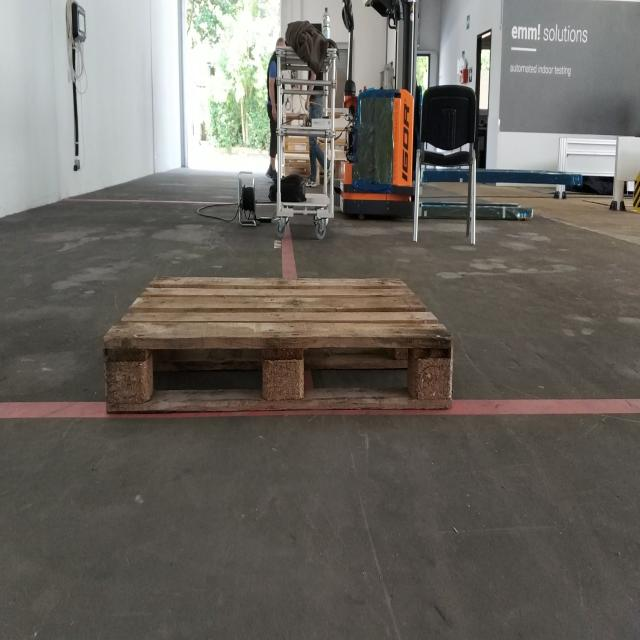block: (260, 325, 306, 415), (102, 332, 152, 414), (414, 329, 456, 410)
front: (102, 331, 454, 414)
